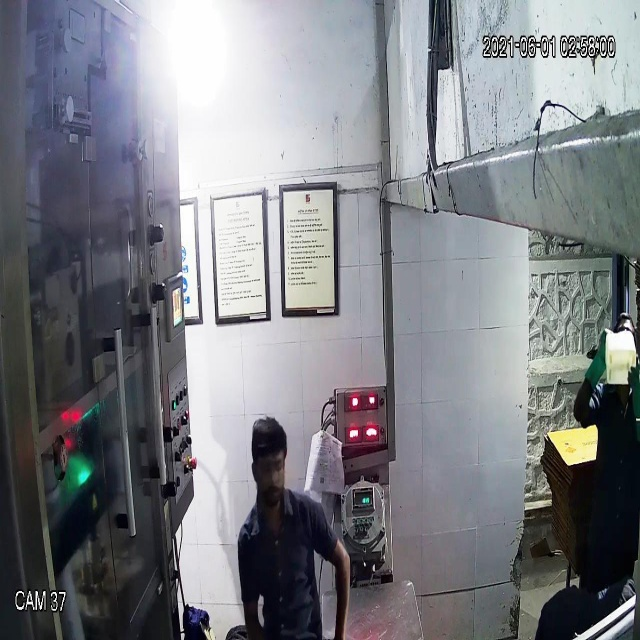Sin_gafas: (246, 447, 289, 485)
